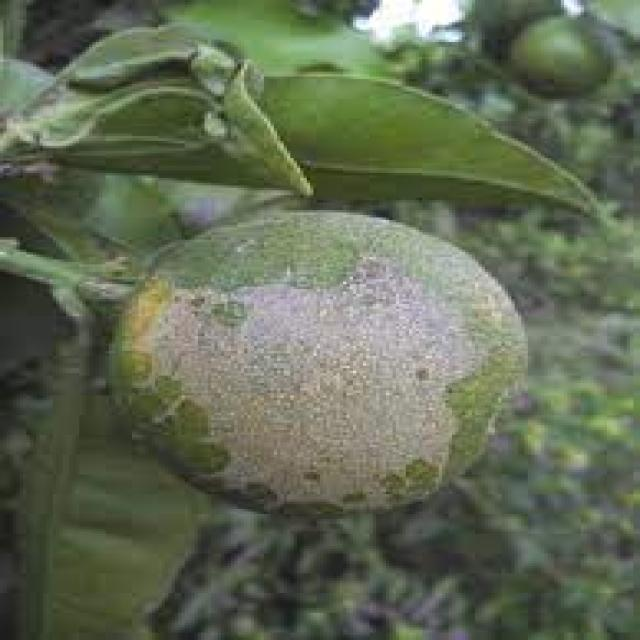thrips: (108, 222, 525, 511)
